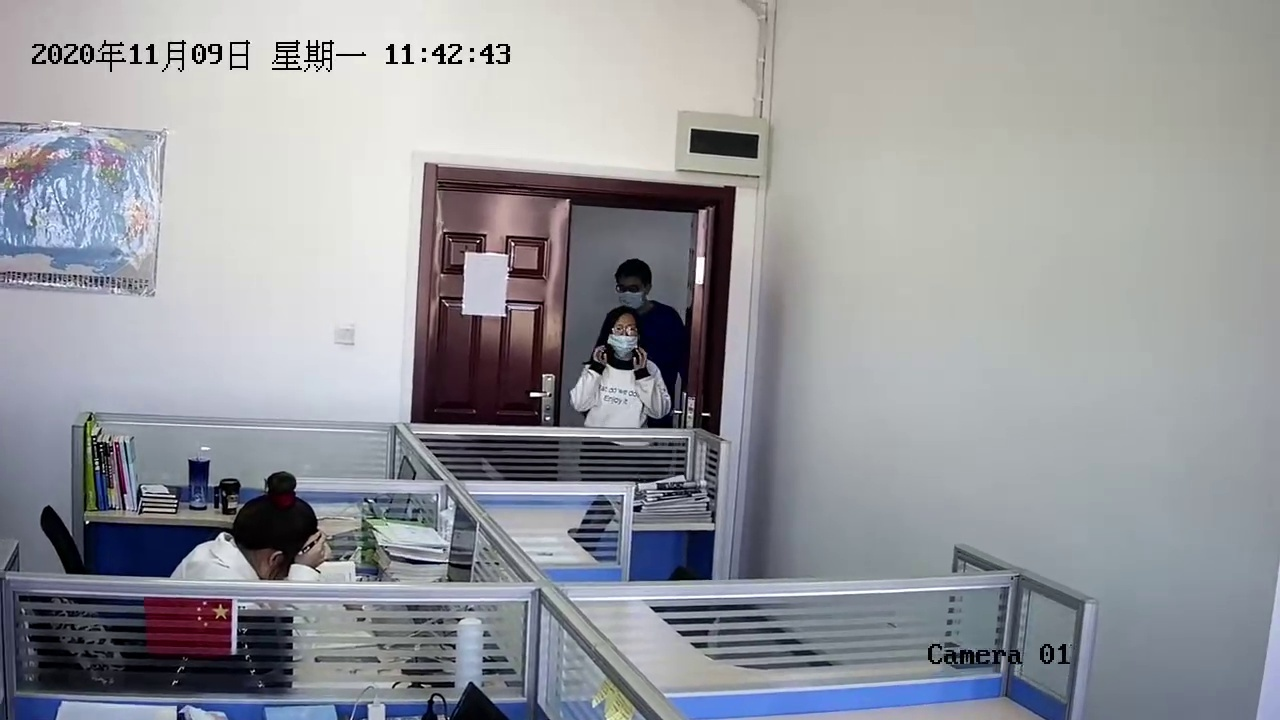mask: (612, 261, 659, 314), (604, 317, 643, 374)
